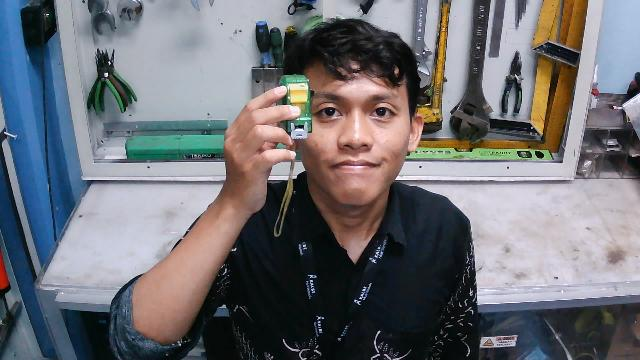meteran: (269, 71, 316, 243)
